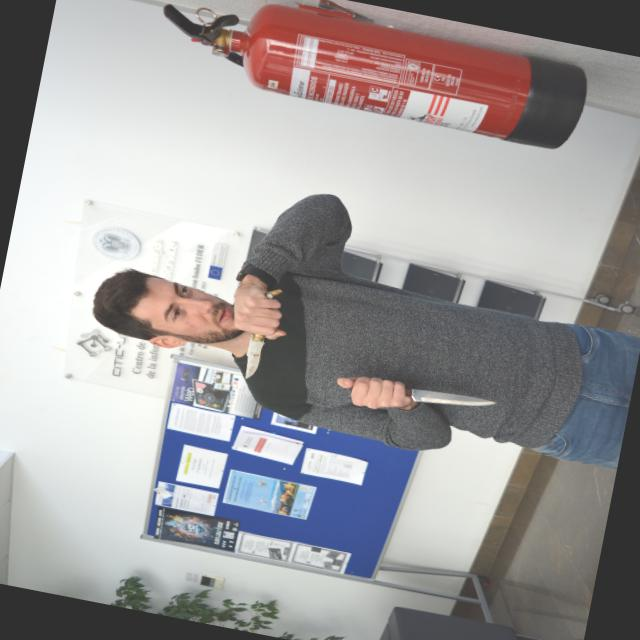knife: (235, 280, 288, 389), (398, 376, 502, 419)
